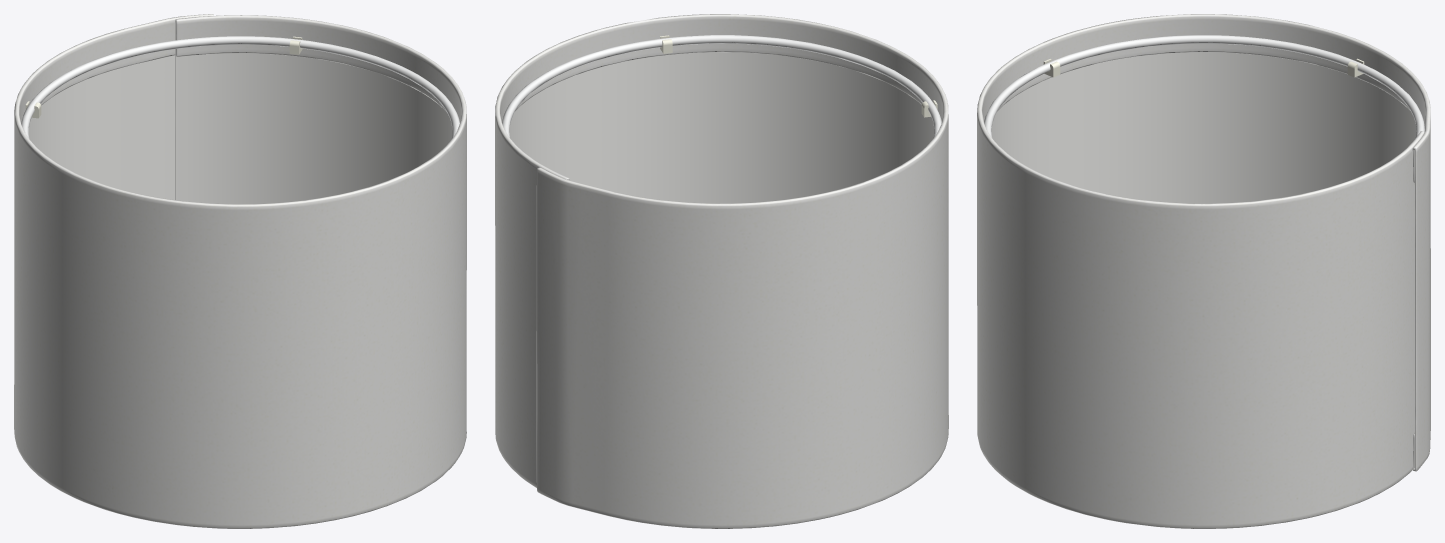
The model's file is ringsta_klosz_90404092.glb.
The picture shows the model from 3 angles, left to right: view 1: azimuth 30°, elevation 25°; view 2: azimuth 150°, elevation 25°; view 3: azimuth 270°, elevation 25°; orthographic projection.
Visible parts, largest first — view 1: ringsta_klosz_90404092; view 2: ringsta_klosz_90404092; view 3: ringsta_klosz_90404092.
Part boxes in pixels (<box>): ringsta_klosz_90404092: <box>14,14,466,528</box>; ringsta_klosz_90404092: <box>495,14,948,528</box>; ringsta_klosz_90404092: <box>977,14,1430,528</box>.
Bounding box in the file's own units: 0.19 × 0.15 × 0.1901.
2 materials, 2 textured.
